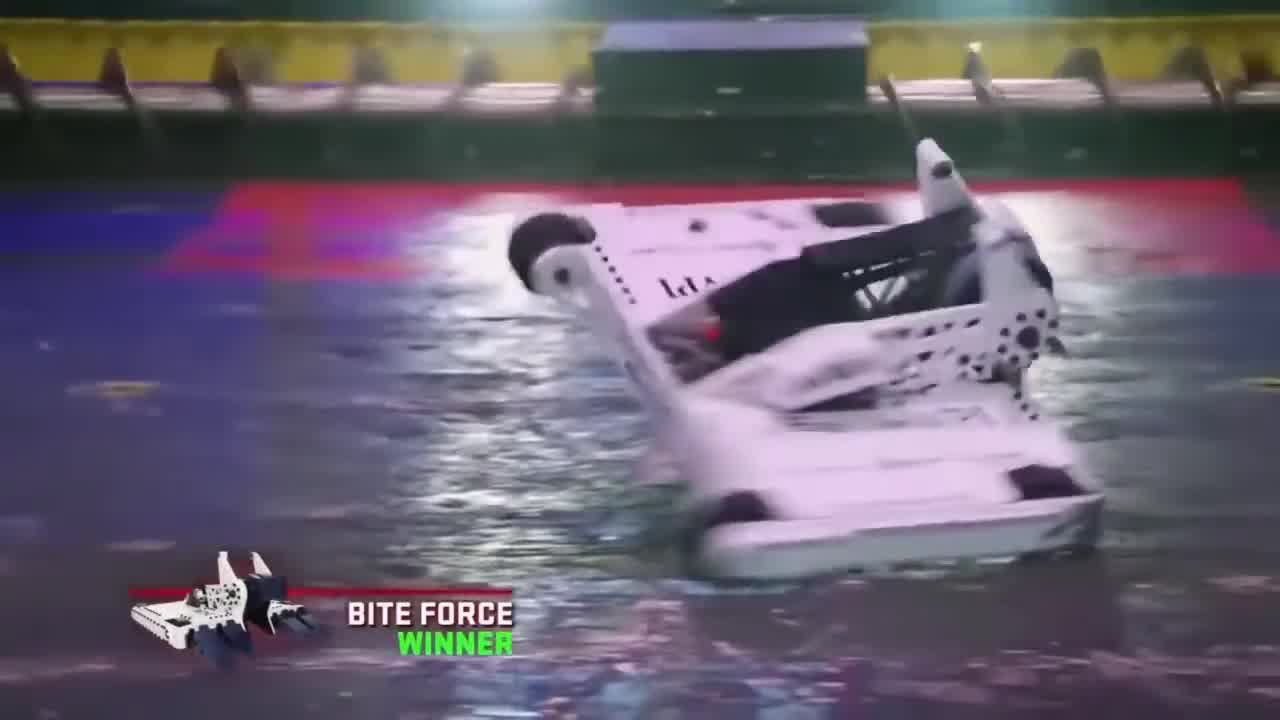combatbot: (514, 137, 1104, 589), (127, 550, 320, 654)
